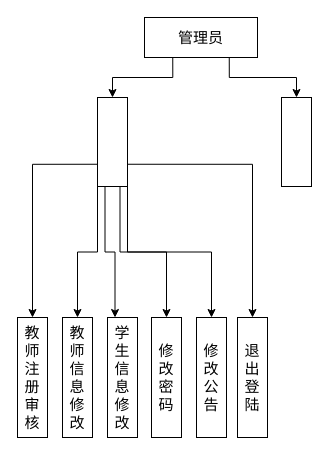
Image size: 329x455. Some labels were removed from this diagram. Each missing label, with the box of its shape:
找回密码: (280, 96, 312, 186)
登录: (96, 96, 128, 186)
